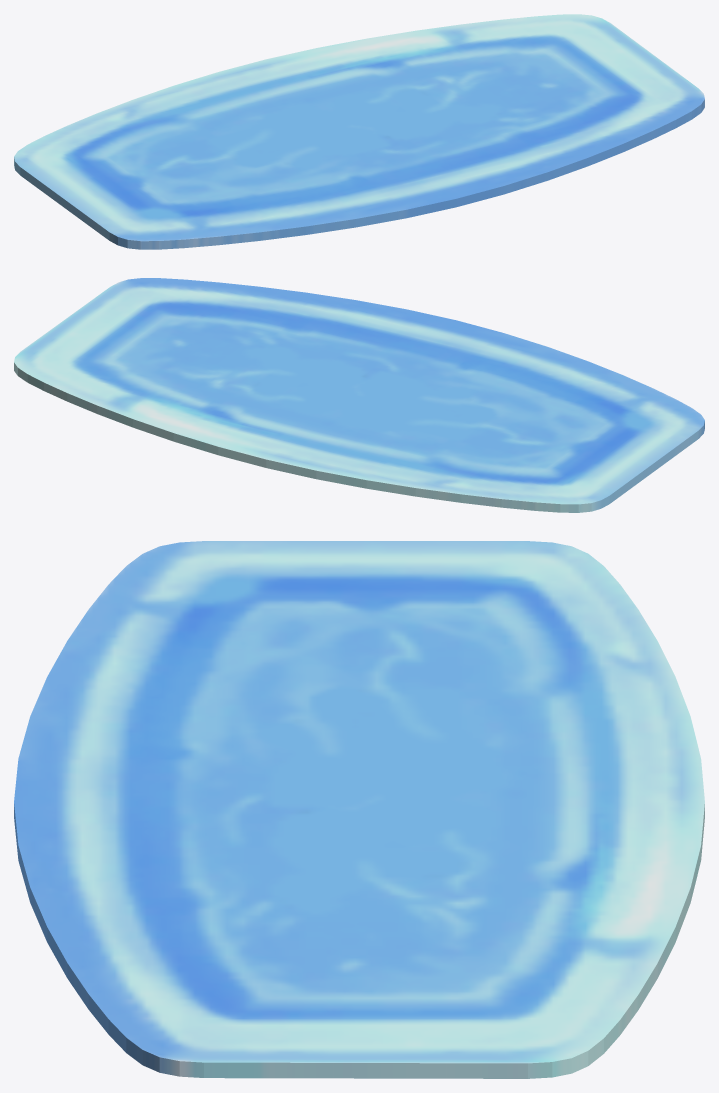
File: Button_InGame.glb
3 renders of one model, top to bottom at view 1: azimuth 30°, elevation 25°; view 2: azimuth 150°, elevation 25°; view 3: azimuth 270°, elevation 25°, orthographic. The views are drawn at different scales.
Parts seen in each view (by area): view 1: NurbsCurve; view 2: NurbsCurve; view 3: NurbsCurve.
Part boxes in pixels (x1,y1,x2,y2): NurbsCurve: (14, 14, 704, 249); NurbsCurve: (14, 278, 704, 512); NurbsCurve: (14, 541, 704, 1078).
Bounding box in the file's own units: 2.17 × 0.03 × 1.21.
Materials: 1 (1 with a texture image).
